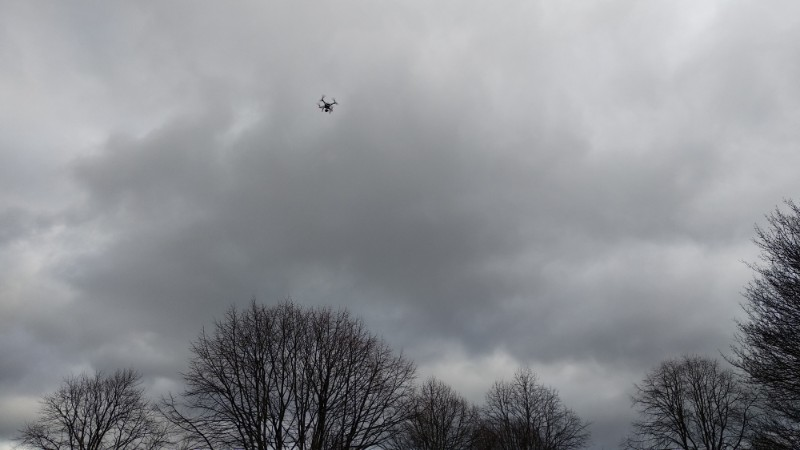drone: (317, 95, 338, 114)
